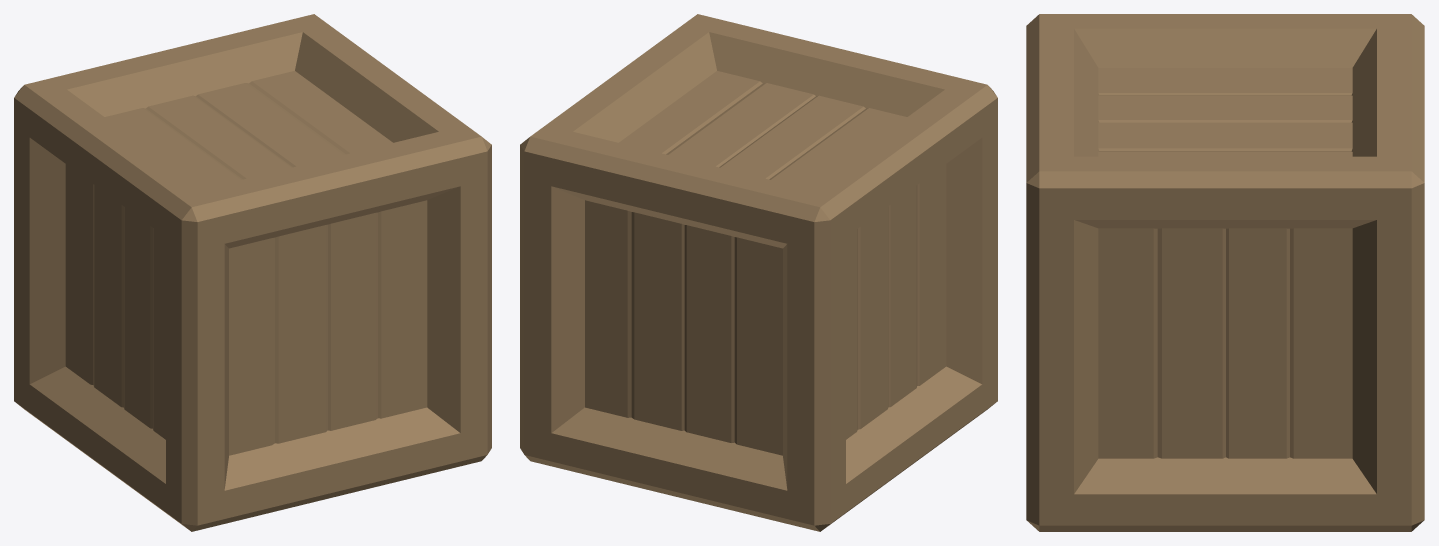
Rendered from crate.glb.
3 renders of one model, left to right at view 1: azimuth 30°, elevation 25°; view 2: azimuth 150°, elevation 25°; view 3: azimuth 270°, elevation 25°, orthographic. The views are drawn at different scales.
Parts seen in each view (by area): view 1: Crate_Small_V1; view 2: Crate_Small_V1; view 3: Crate_Small_V1.
Part boxes in pixels (x1,y1,x2,y2): Crate_Small_V1: [14, 14, 491, 531]; Crate_Small_V1: [520, 14, 997, 531]; Crate_Small_V1: [1026, 14, 1424, 531].
Size of the model in its own units: 0.35 by 0.35 by 0.35.
